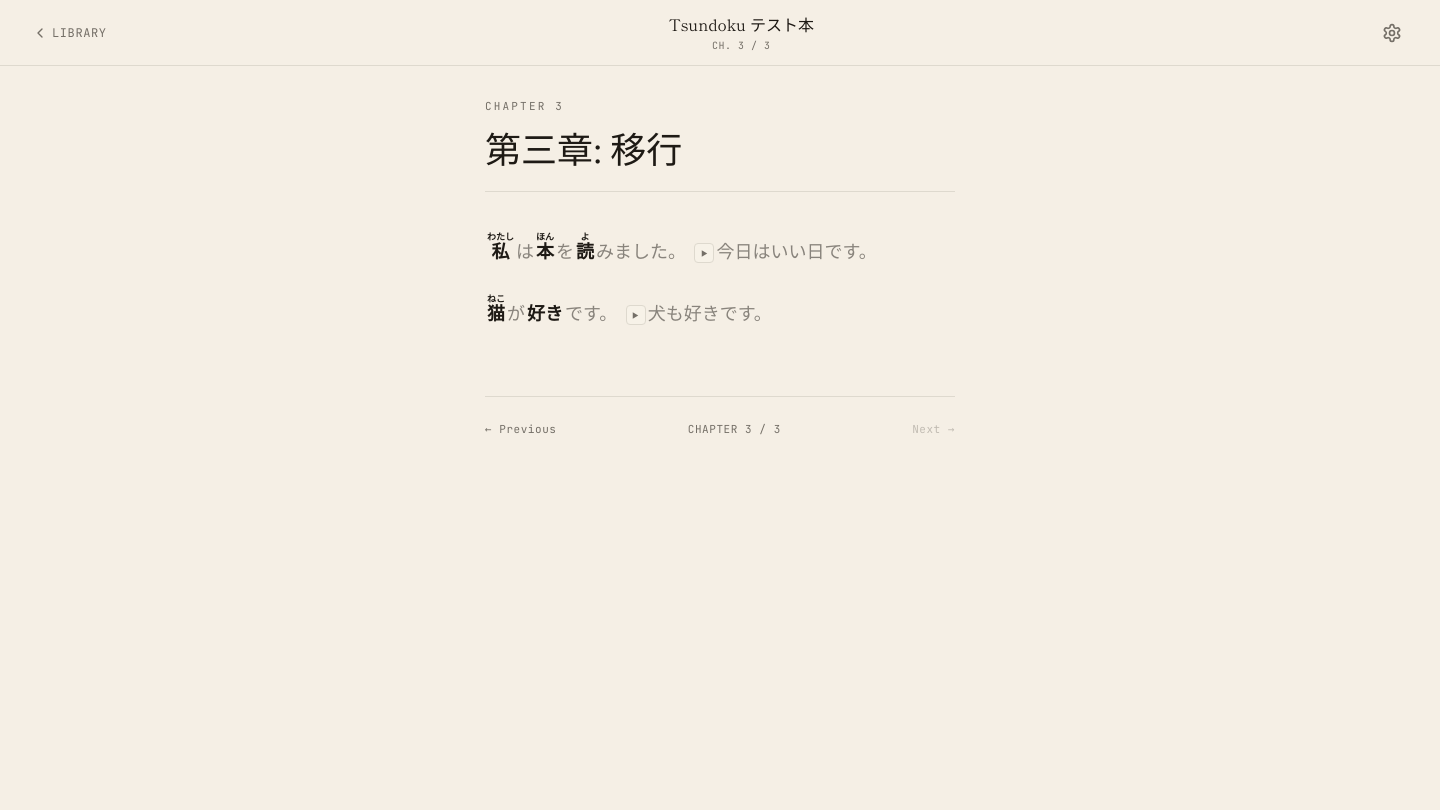
Reader › sentence help › closes the previously open panel when another sentence-help affordance is activated
Click the button named "translation for p0-s0". click: [704, 253]
box: [694, 243, 714, 263]
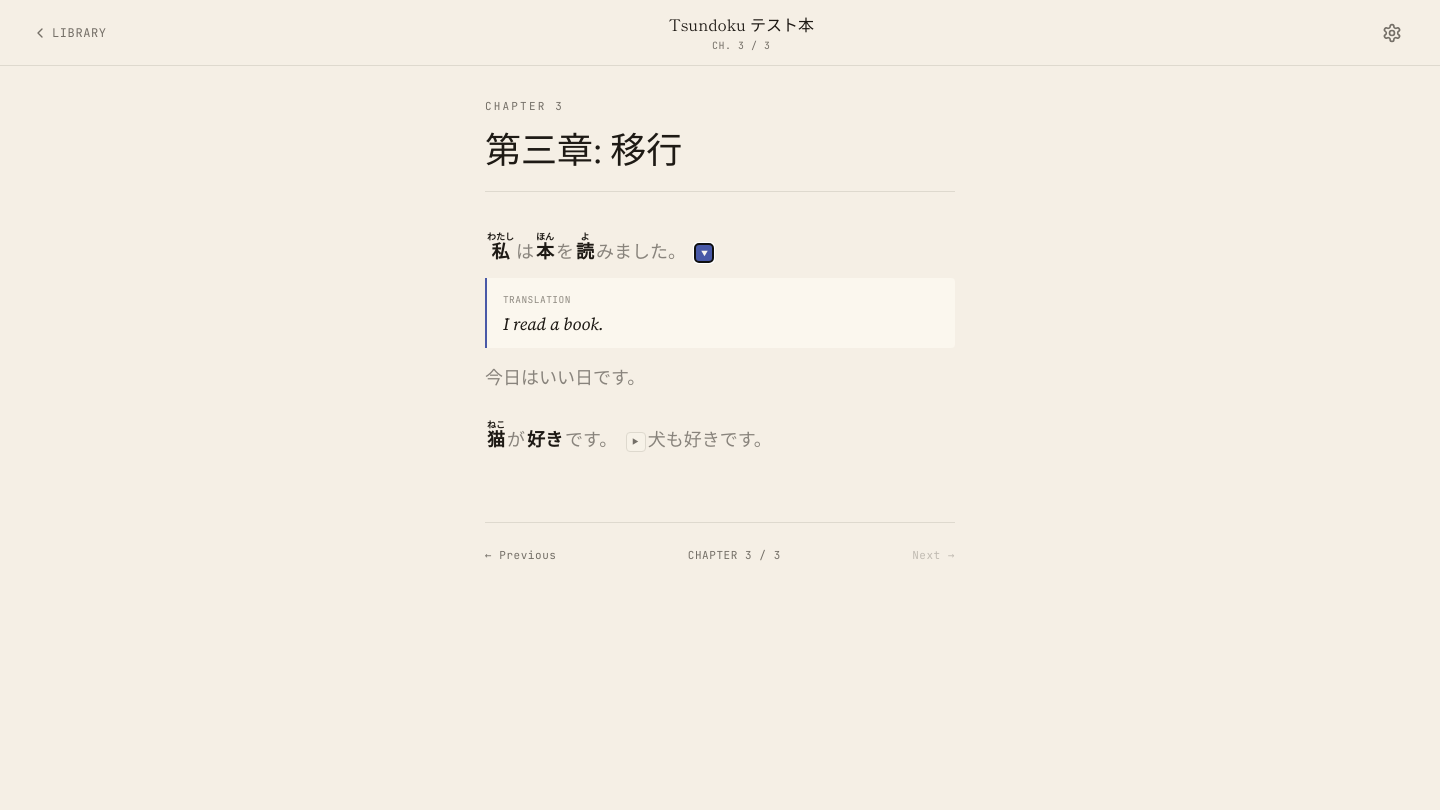
expect the element named "sentence help for p0-s0" is shown: met, box [485, 278, 955, 348]
Click the button named "translation for p1-s0". click: [636, 442]
box: [626, 432, 646, 452]
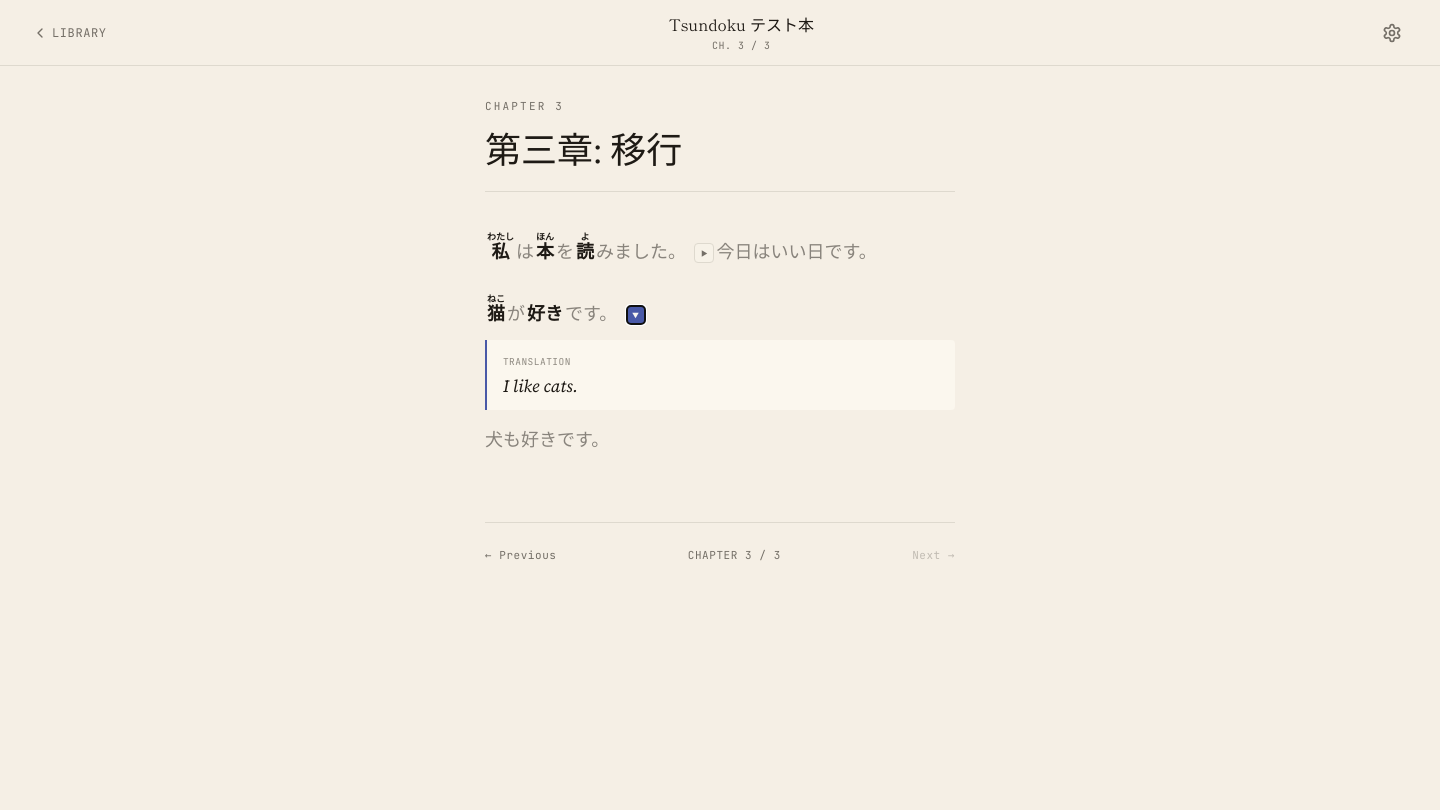
expect the element named "sentence help for p1-s0" is shown: met, box [485, 340, 955, 410]
